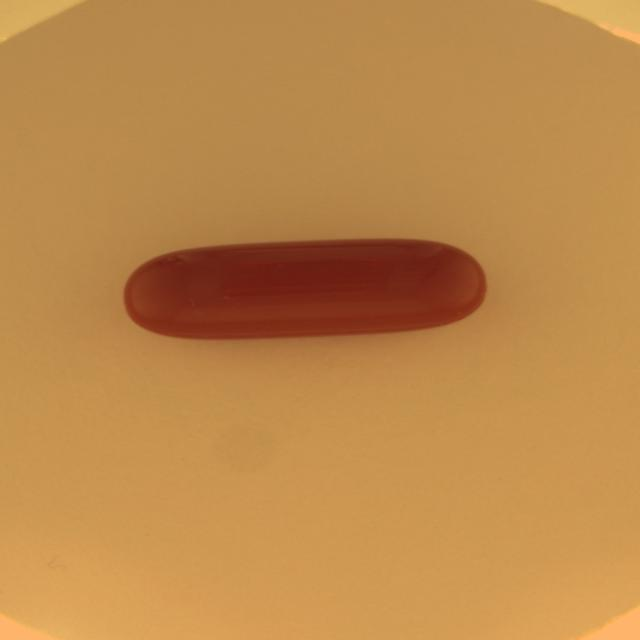Oval: (121, 237, 488, 339)
